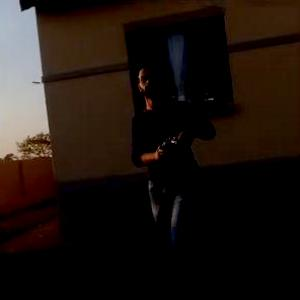follow: (122, 47, 231, 299)
